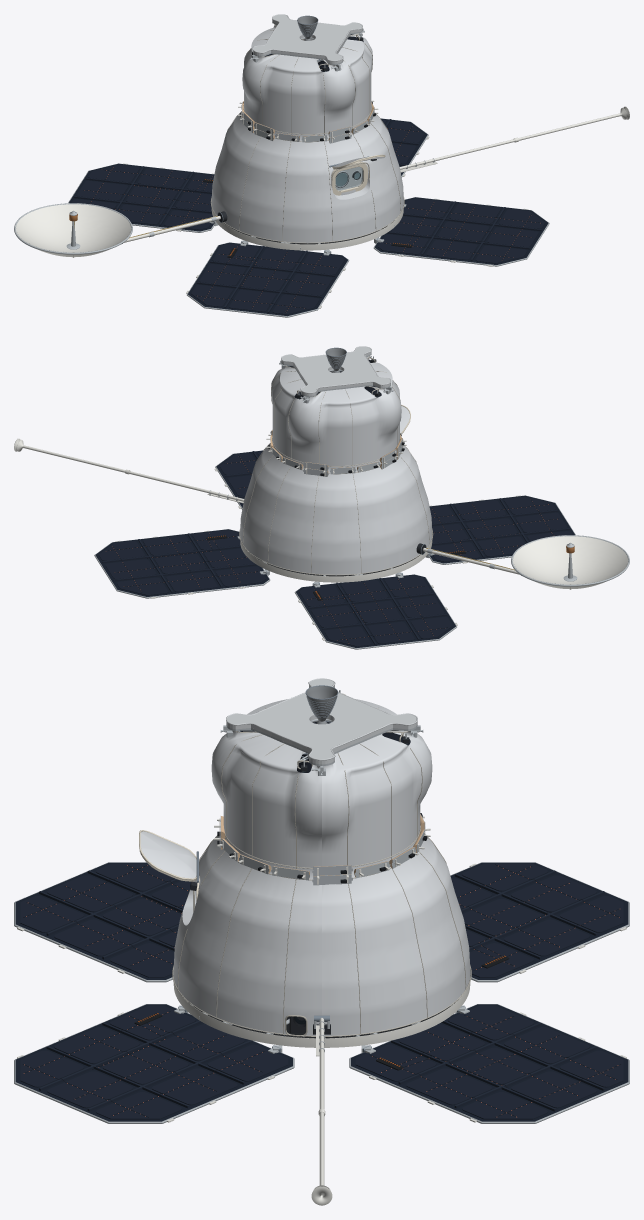
The model's file is orbiter-exterior.glb.
3 renders of one model, top to bottom at view 1: azimuth 30°, elevation 25°; view 2: azimuth 150°, elevation 25°; view 3: azimuth 270°, elevation 25°, orthographic. The views are drawn at different scales.
Parts seen in each view (by area): view 1: THERMAL_BARRIER_LO1_aluminized_Mylar_thermal_blanket_foil, SOLAR_ARRAYS_LO1_solar_panel_navy_rear_pad, SOLAR_ARRAYS_LO1_solar_panel_navy-black_back, HIGH_GAIN_ANTENNA_LO1_white_honeycomb_reflector_coating, SOLAR_ARRAYS_LO1_solar_panel_navy_anodized_stiffener, ENGINE_DECK_HEAT_SHIELD_LO1_heat_shield_aluminized_foil, THERMAL_BARRIER_LO1_blanket_seam_tape, SOLAR_ARRAYS_LO1_solar_panel_aluminium_frame, EQUIPMENT_MOUNTING_DECK_LO1_deck_ring_white_coating, SOLAR_ARRAYS_LO1_solar_panel_black_interconnect_wire, METEOROID_DETECTORS_LO1_machined_aluminium_structure, LOW_GAIN_ANTENNA_LO1_deck_ring_white_coating (+3 smaller); view 2: THERMAL_BARRIER_LO1_aluminized_Mylar_thermal_blanket_foil, SOLAR_ARRAYS_LO1_solar_panel_navy_rear_pad, SOLAR_ARRAYS_LO1_solar_panel_navy-black_back, HIGH_GAIN_ANTENNA_LO1_white_honeycomb_reflector_coating, SOLAR_ARRAYS_LO1_solar_panel_navy_anodized_stiffener, ENGINE_DECK_HEAT_SHIELD_LO1_heat_shield_aluminized_foil, THERMAL_BARRIER_LO1_blanket_seam_tape, SOLAR_ARRAYS_LO1_solar_panel_aluminium_frame, EQUIPMENT_MOUNTING_DECK_LO1_deck_ring_white_coating, SOLAR_ARRAYS_LO1_solar_panel_black_interconnect_wire, METEOROID_DETECTORS_LO1_machined_aluminium_structure, LOW_GAIN_ANTENNA_LO1_deck_ring_white_coating (+1 smaller); view 3: THERMAL_BARRIER_LO1_aluminized_Mylar_thermal_blanket_foil, SOLAR_ARRAYS_LO1_solar_panel_navy_rear_pad, SOLAR_ARRAYS_LO1_solar_panel_navy-black_back, SOLAR_ARRAYS_LO1_solar_panel_navy_anodized_stiffener, ENGINE_DECK_HEAT_SHIELD_LO1_heat_shield_aluminized_foil, SOLAR_ARRAYS_LO1_solar_panel_aluminium_frame, THERMAL_BARRIER_LO1_blanket_seam_tape, SOLAR_ARRAYS_LO1_solar_panel_black_interconnect_wire, EQUIPMENT_MOUNTING_DECK_LO1_deck_ring_white_coating, METEOROID_DETECTORS_LO1_machined_aluminium_structure, CAMERA_THERMAL_DOOR_LO1_aluminized_Mylar_thermal_blanket_foi, LOW_GAIN_ANTENNA_LO1_deck_ring_white_coating (+2 smaller).
Boxes of the visible parts, box(x1,y1,x2,y2) form: THERMAL_BARRIER_LO1_aluminized_Mylar_thermal_blanket_foil: box(211, 24, 403, 242); SOLAR_ARRAYS_LO1_solar_panel_navy_rear_pad: box(72, 119, 544, 314); SOLAR_ARRAYS_LO1_solar_panel_navy-black_back: box(69, 118, 548, 316); HIGH_GAIN_ANTENNA_LO1_white_honeycomb_reflector_coating: box(15, 203, 131, 252); SOLAR_ARRAYS_LO1_solar_panel_navy_anodized_stiffener: box(73, 119, 541, 313); ENGINE_DECK_HEAT_SHIELD_LO1_heat_shield_aluminized_foil: box(252, 14, 362, 63); THERMAL_BARRIER_LO1_blanket_seam_tape: box(210, 24, 404, 243); SOLAR_ARRAYS_LO1_solar_panel_aluminium_frame: box(68, 118, 549, 317); EQUIPMENT_MOUNTING_DECK_LO1_deck_ring_white_coating: box(211, 208, 403, 250); SOLAR_ARRAYS_LO1_solar_panel_black_interconnect_wire: box(83, 127, 541, 312); METEOROID_DETECTORS_LO1_machined_aluminium_structure: box(242, 101, 374, 143); LOW_GAIN_ANTENNA_LO1_deck_ring_white_coating: box(399, 113, 620, 172); THERMAL_BARRIER_LO1_aluminized_Mylar_thermal_blanket_foil: box(240, 356, 432, 574); SOLAR_ARRAYS_LO1_solar_panel_navy_rear_pad: box(99, 451, 571, 646); SOLAR_ARRAYS_LO1_solar_panel_navy-black_back: box(95, 450, 574, 647); HIGH_GAIN_ANTENNA_LO1_white_honeycomb_reflector_coating: box(512, 535, 628, 584); SOLAR_ARRAYS_LO1_solar_panel_navy_anodized_stiffener: box(102, 451, 570, 645); ENGINE_DECK_HEAT_SHIELD_LO1_heat_shield_aluminized_foil: box(281, 346, 391, 395); THERMAL_BARRIER_LO1_blanket_seam_tape: box(239, 356, 433, 575); SOLAR_ARRAYS_LO1_solar_panel_aluminium_frame: box(94, 450, 575, 649); EQUIPMENT_MOUNTING_DECK_LO1_deck_ring_white_coating: box(240, 540, 432, 582); SOLAR_ARRAYS_LO1_solar_panel_black_interconnect_wire: box(107, 455, 558, 642); METEOROID_DETECTORS_LO1_machined_aluminium_structure: box(271, 430, 402, 476); LOW_GAIN_ANTENNA_LO1_deck_ring_white_coating: box(23, 445, 244, 503); THERMAL_BARRIER_LO1_aluminized_Mylar_thermal_blanket_foil: box(173, 699, 470, 1035); SOLAR_ARRAYS_LO1_solar_panel_navy_rear_pad: box(20, 864, 623, 1119); SOLAR_ARRAYS_LO1_solar_panel_navy-black_back: box(15, 862, 628, 1121); SOLAR_ARRAYS_LO1_solar_panel_navy_anodized_stiffener: box(39, 870, 604, 1111); ENGINE_DECK_HEAT_SHIELD_LO1_heat_shield_aluminized_foil: box(226, 678, 417, 764); SOLAR_ARRAYS_LO1_solar_panel_aluminium_frame: box(14, 862, 629, 1123); THERMAL_BARRIER_LO1_blanket_seam_tape: box(172, 693, 471, 1036); SOLAR_ARRAYS_LO1_solar_panel_black_interconnect_wire: box(23, 864, 620, 1117); EQUIPMENT_MOUNTING_DECK_LO1_deck_ring_white_coating: box(173, 983, 470, 1047); METEOROID_DETECTORS_LO1_machined_aluminium_structure: box(220, 814, 425, 885); CAMERA_THERMAL_DOOR_LO1_aluminized_Mylar_thermal_blanket_foi: box(140, 831, 196, 878); LOW_GAIN_ANTENNA_LO1_deck_ring_white_coating: box(316, 1018, 324, 1185).
Bounding box in the file's own units: 5.46 × 1.69 × 3.12.
